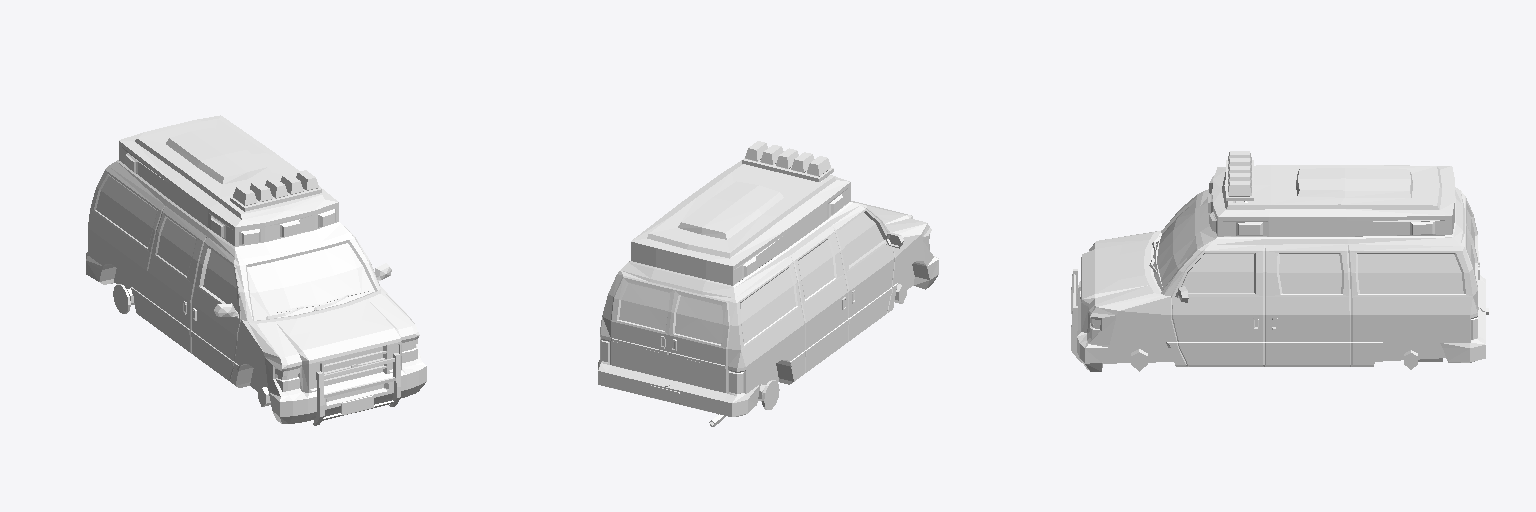
Rendered from firetruck.obj.
3 views of the same model, side by side, from view 1: azimuth 30°, elevation 25°; view 2: azimuth 150°, elevation 25°; view 3: azimuth 270°, elevation 25° (orthographic).
Visible parts, largest first — view 1: SM_Veh_Car_Ambo_01_Mesh, SM_Veh_Car_Ambo_Glass_Mesh.005; view 2: SM_Veh_Car_Ambo_01_Mesh, SM_Veh_Car_Ambo_Door_l_Mesh.001, SM_Veh_Car_Ambo_Door_r_Mesh.003, SM_Veh_Car_Ambo_Door_r_Glass_Mesh.004, SM_Veh_Car_Ambo_Door_l_Glass_Mesh.002, SM_Veh_Car_Ambo_Glass_Mesh.005; view 3: SM_Veh_Car_Ambo_01_Mesh, SM_Veh_Car_Ambo_Glass_Mesh.005.
Boxes of the visible parts, <box> form: SM_Veh_Car_Ambo_01_Mesh: <box>86,115,426,425</box>; SM_Veh_Car_Ambo_Glass_Mesh.005: <box>203,243,374,320</box>; SM_Veh_Car_Ambo_01_Mesh: <box>598,141,938,426</box>; SM_Veh_Car_Ambo_Door_l_Mesh.001: <box>611,277,674,377</box>; SM_Veh_Car_Ambo_Door_r_Mesh.003: <box>669,290,728,391</box>; SM_Veh_Car_Ambo_Door_r_Glass_Mesh.004: <box>675,296,722,343</box>; SM_Veh_Car_Ambo_Door_l_Glass_Mesh.002: <box>619,283,669,330</box>; SM_Veh_Car_Ambo_Glass_Mesh.005: <box>841,213,883,264</box>; SM_Veh_Car_Ambo_01_Mesh: <box>1071,151,1488,371</box>; SM_Veh_Car_Ambo_Glass_Mesh.005: <box>1153,201,1253,292</box>.
Bounding box in the file's own units: 2.47 × 2.37 × 5.09.